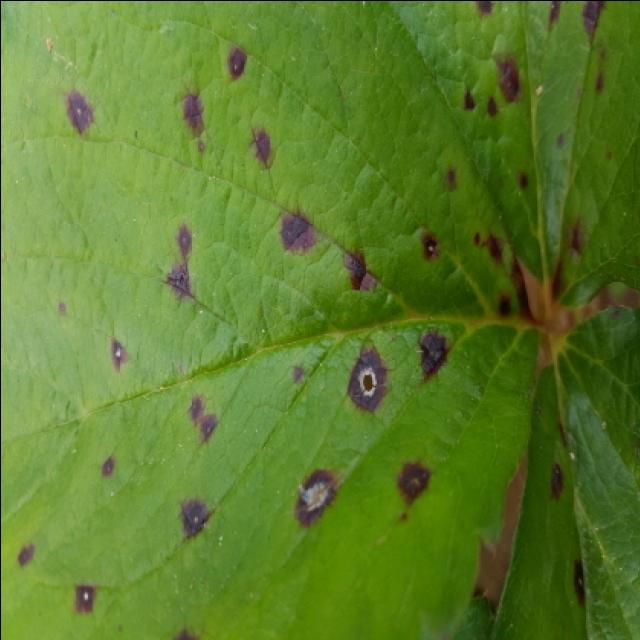Leaf Spot: (0, 2, 540, 640), (389, 2, 638, 307), (490, 302, 638, 640)
